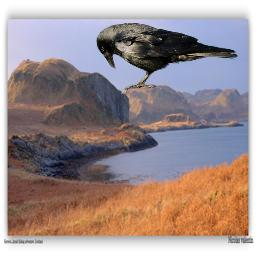Crow: (96, 22, 239, 94)
